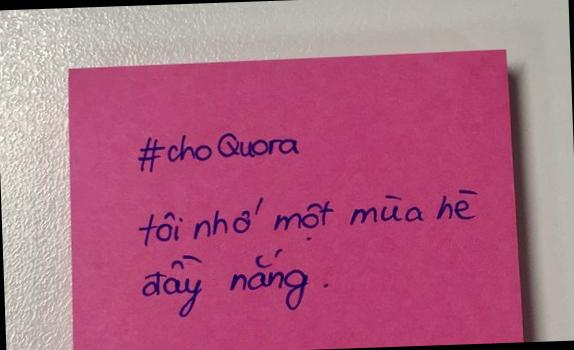text: (134, 186, 480, 250), (137, 244, 331, 322), (136, 127, 302, 175)
